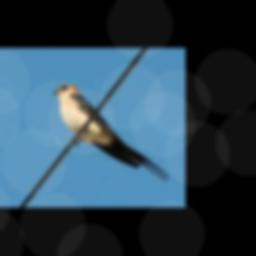Swallow: (51, 84, 169, 181)
